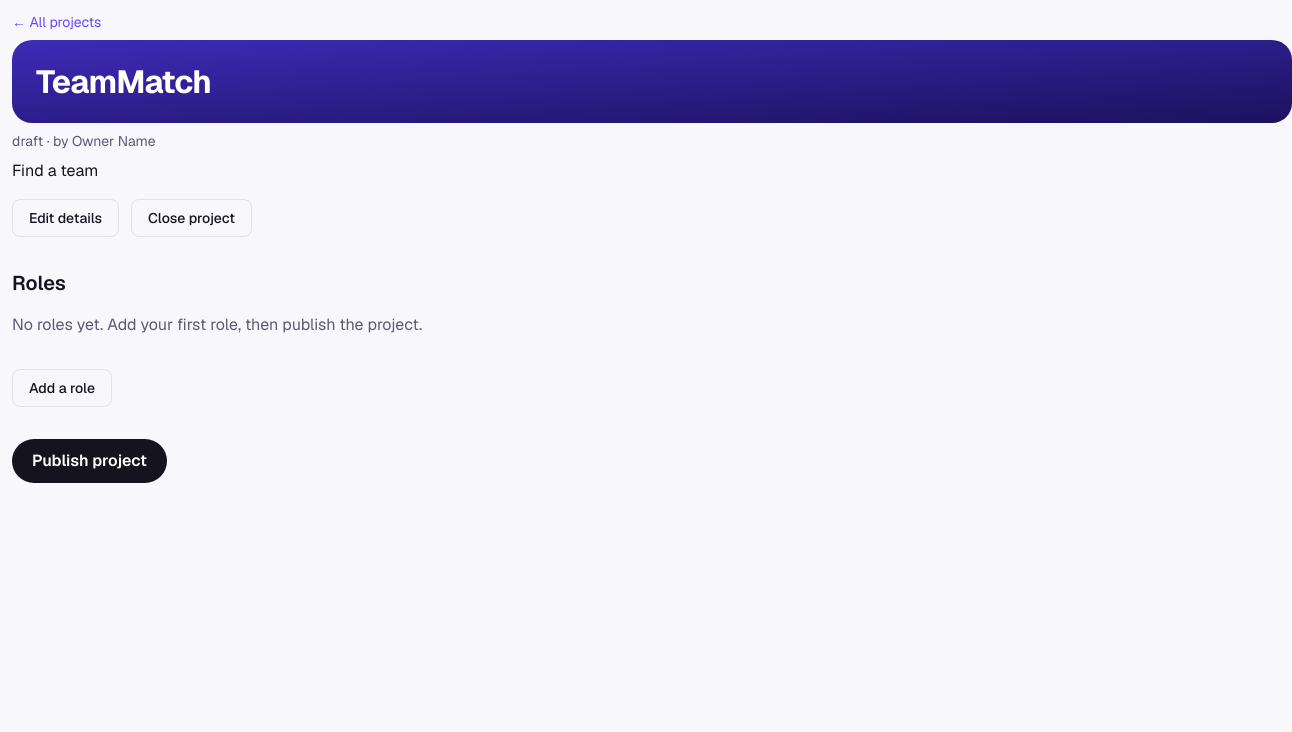
Test case: explains why a project without roles can't be published
The width and height of the screenshot is (1292, 732).
Click the button "Publish project" at (90,461), box [12, 439, 167, 483]
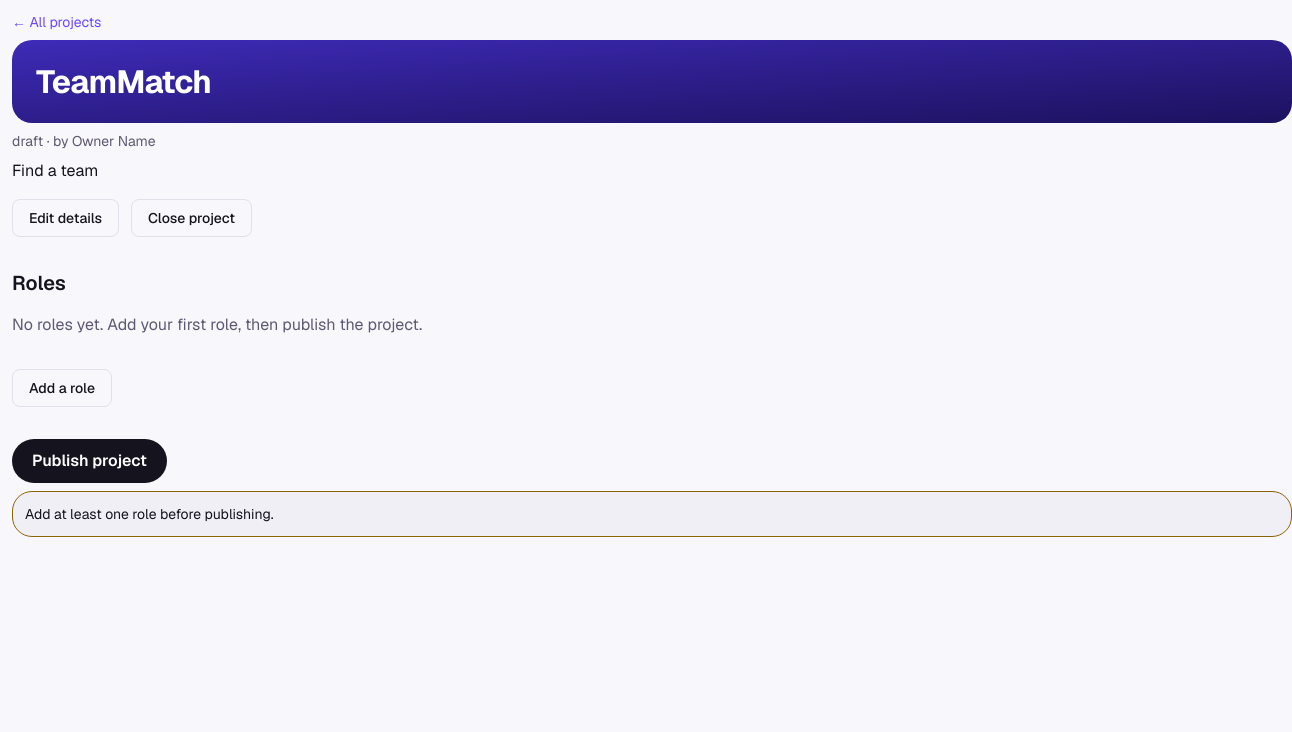
Result: the message reads "Add at least one role before publishing." at [25, 505, 274, 523]
